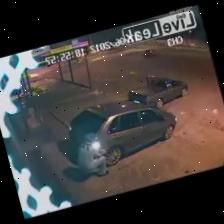person: (77, 143, 108, 176)
